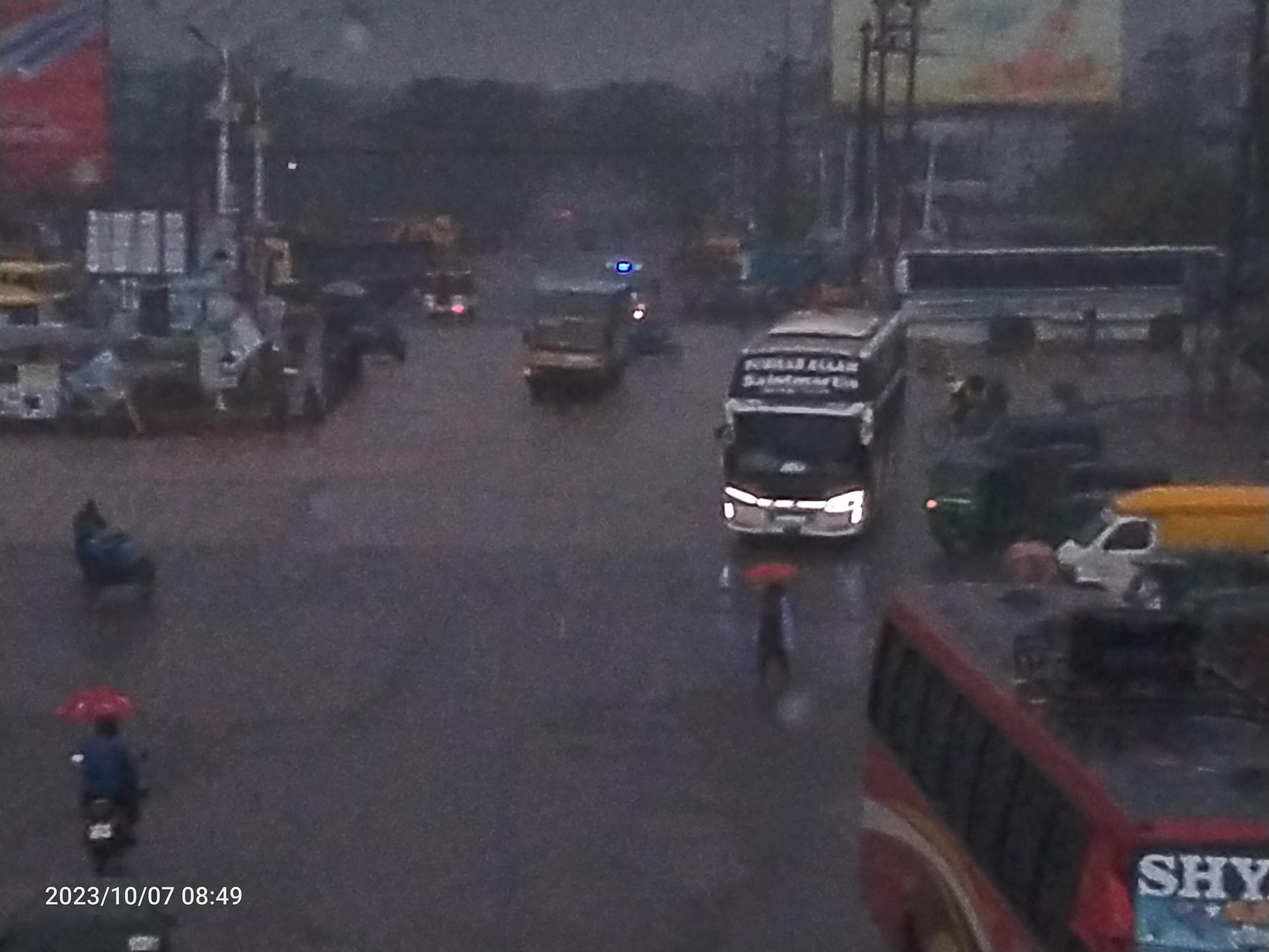Bike: (41, 660, 214, 879)
Bus: (804, 536, 1269, 952), (861, 187, 1269, 388), (694, 273, 928, 588), (500, 260, 647, 418)
Car: (1041, 467, 1269, 627)
